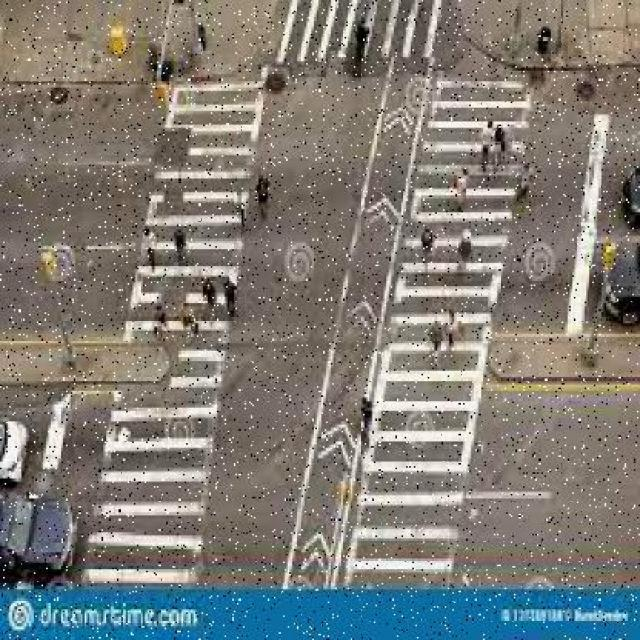crosswalk: (345, 75, 542, 593), (80, 81, 264, 587)
